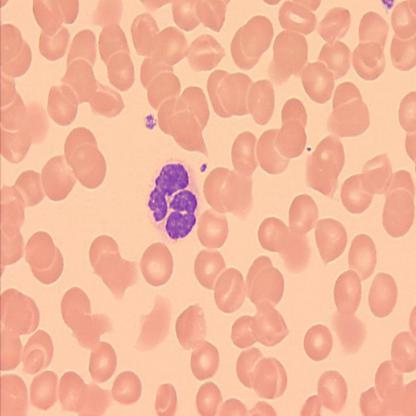Segmented neutrophil: (146, 159, 202, 245)
